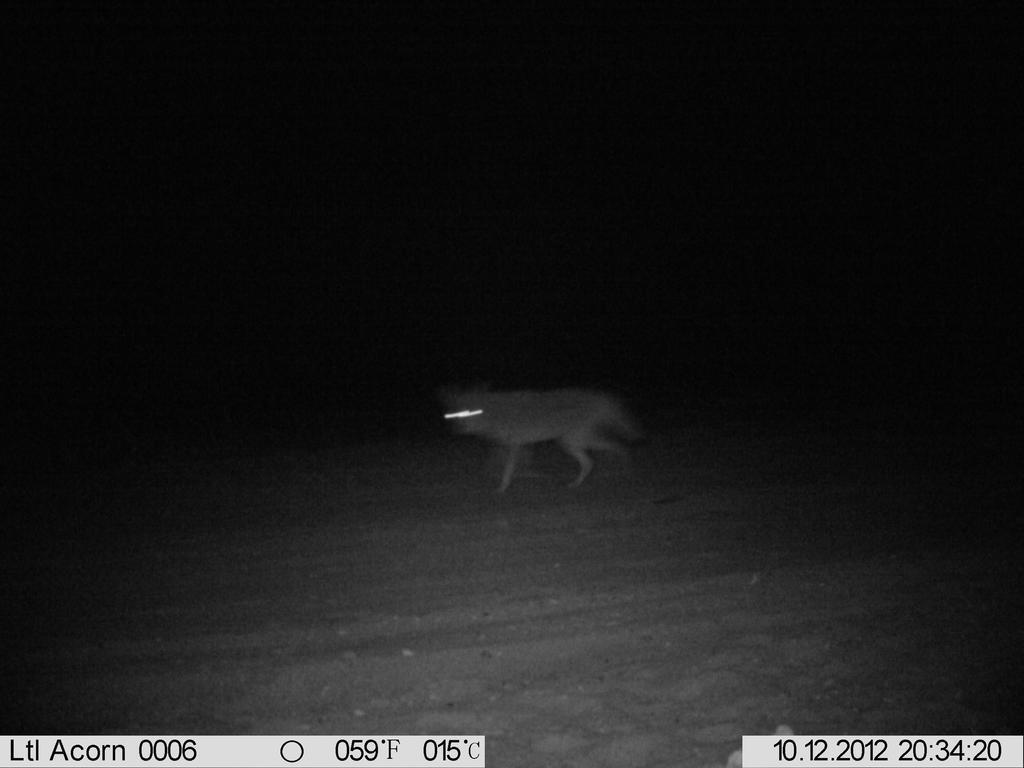coyote: (432, 361, 649, 500)
